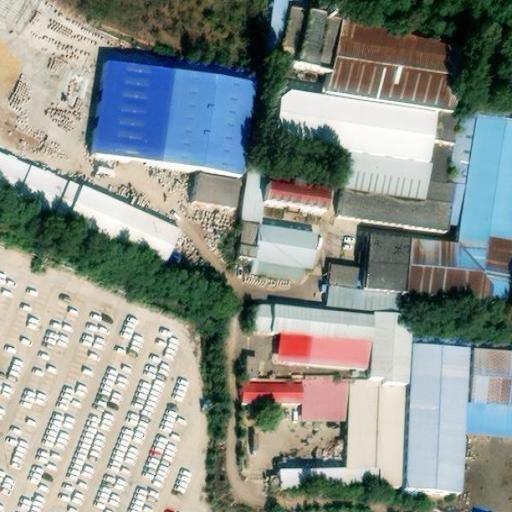building: (276, 88, 469, 236), (443, 114, 512, 300), (328, 21, 464, 112), (82, 50, 176, 180), (158, 77, 255, 190), (404, 342, 473, 490), (61, 192, 179, 277), (347, 379, 409, 491), (0, 156, 79, 231), (251, 295, 374, 341), (235, 223, 322, 282), (328, 233, 412, 294), (275, 328, 370, 372), (364, 312, 419, 385), (271, 179, 342, 219), (301, 9, 346, 67), (404, 242, 449, 300), (324, 283, 402, 316), (298, 376, 352, 421), (184, 181, 237, 221), (280, 467, 348, 494), (239, 381, 300, 410), (0, 0, 39, 41), (280, 6, 308, 63), (467, 401, 512, 435), (242, 168, 265, 225), (246, 420, 259, 450), (240, 358, 252, 381)
